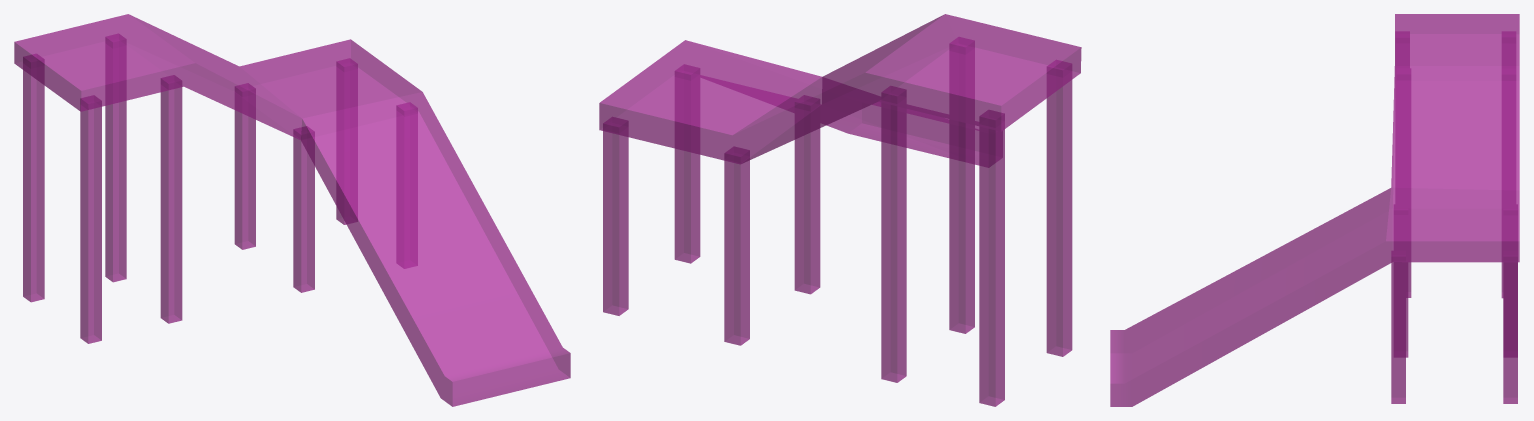
File: SM_Bld_Stairs_Double_01_Collision.fbx
3 views of the same model, side by side, from view 1: azimuth 30°, elevation 25°; view 2: azimuth 150°, elevation 25°; view 3: azimuth 270°, elevation 25° (orthographic). The views are drawn at different scales.
Parts seen in each view (by area): view 1: SM_Bld_Stairs_Double_01_Collision; view 2: SM_Bld_Stairs_Double_01_Collision; view 3: SM_Bld_Stairs_Double_01_Collision.
Part boxes in pixels (x1,y1,x2,y2): SM_Bld_Stairs_Double_01_Collision: (14, 14, 570, 406); SM_Bld_Stairs_Double_01_Collision: (599, 14, 1081, 406); SM_Bld_Stairs_Double_01_Collision: (1110, 14, 1519, 406).
Bounding box in the file's own units: 551 × 403 × 623.
